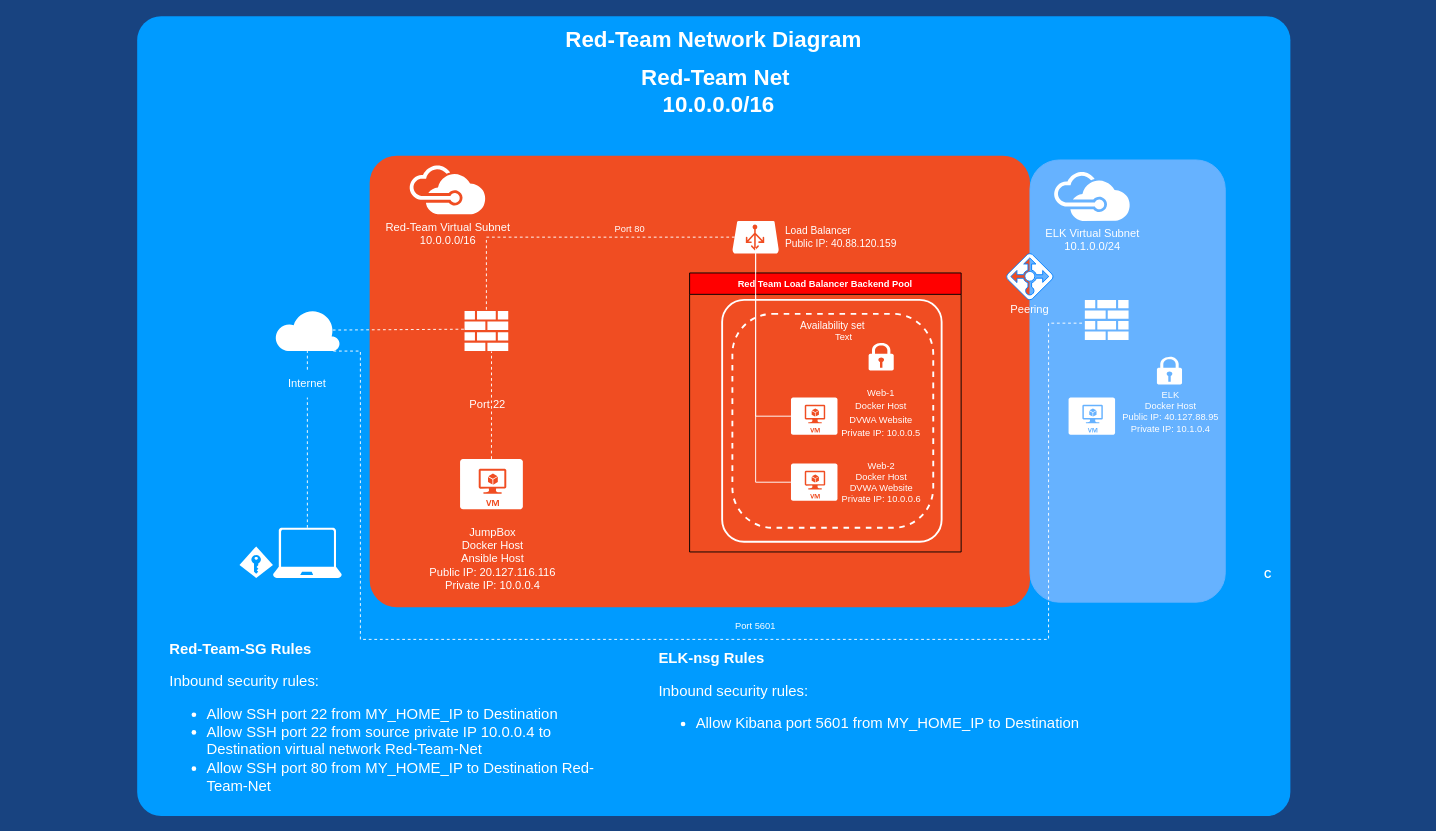
Some shapes in this 1436 by 831 pixel diagram are drawn without their labels. Each missing label, with the centre of its shape:
ELK-NSG Port 5601: the point at 1106,319
Red-Team-SG Port 22 Port 80: the point at 486,331
